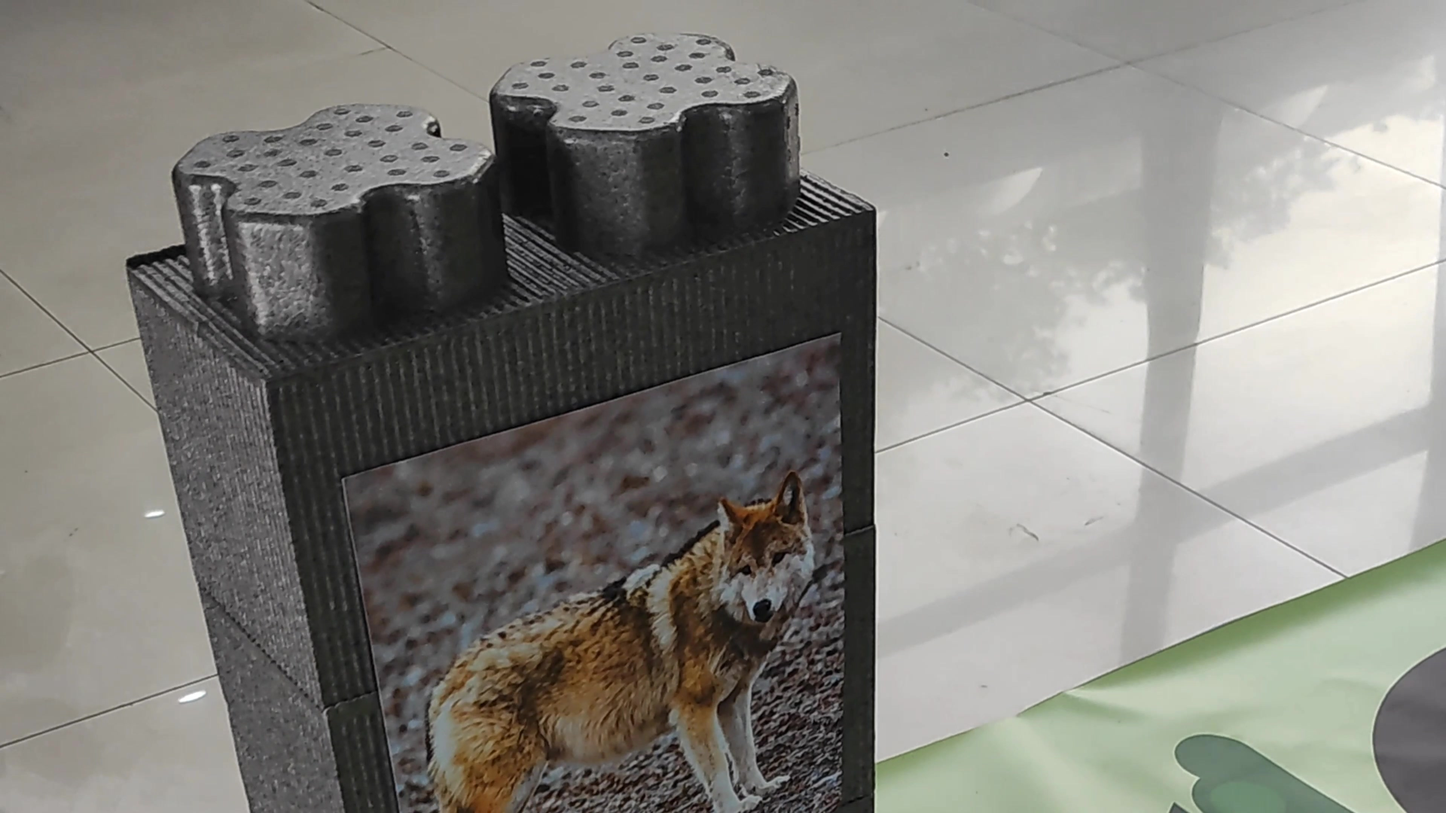wolf: (397, 459, 822, 811)
